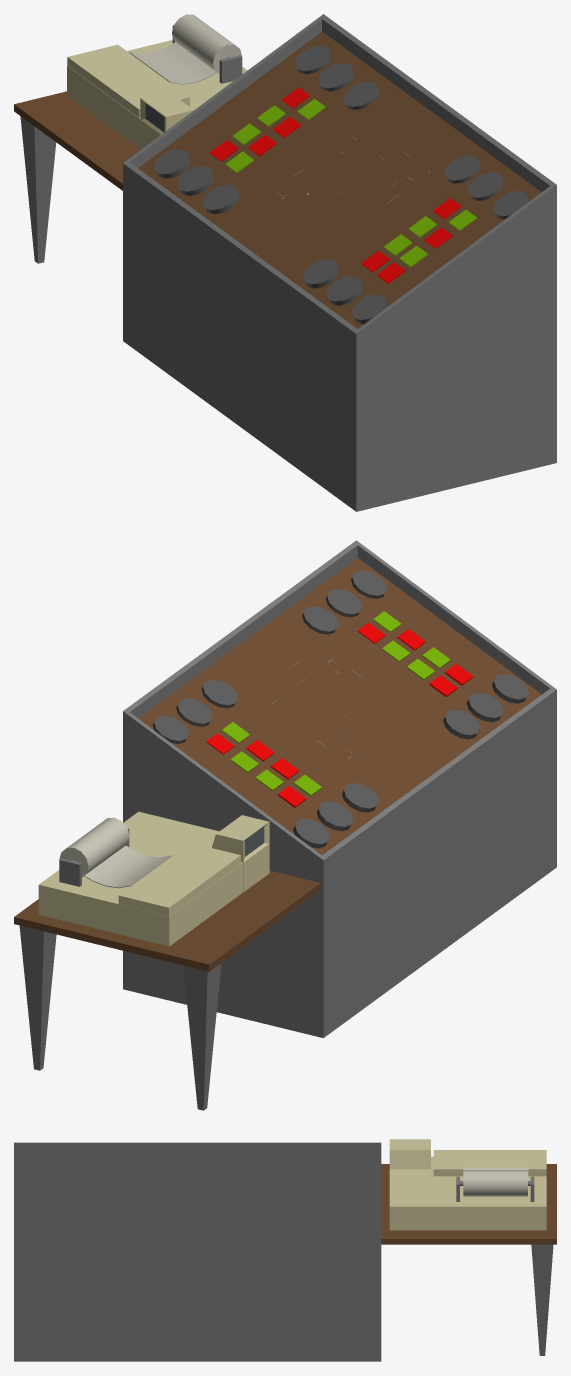
File: dyn_fax.fbx
The picture shows the model from 3 angles, top to bottom: view 1: azimuth 30°, elevation 25°; view 2: azimuth 150°, elevation 25°; view 3: azimuth 270°, elevation 25°; orthographic projection. The views are drawn at different scales.
Visible parts, largest first — view 1: mdl_fax; view 2: mdl_fax; view 3: mdl_fax.
Part boxes in pixels (x1,y1,x2,y2): mdl_fax: (14,14,556,511); mdl_fax: (14,540,556,1110); mdl_fax: (14,1139,556,1361).
Bounding box in the file's own units: 99.21 × 132 × 296.
